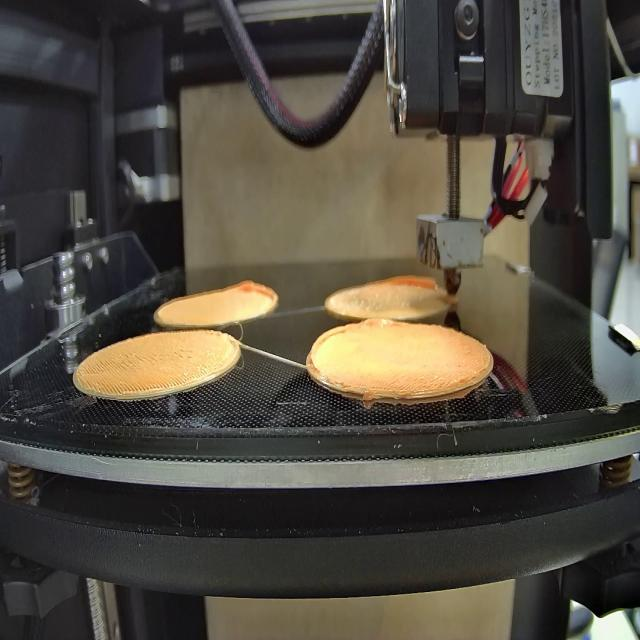over_extrusion: (306, 321, 348, 374), (238, 277, 278, 322), (388, 273, 438, 293), (359, 315, 404, 331)
